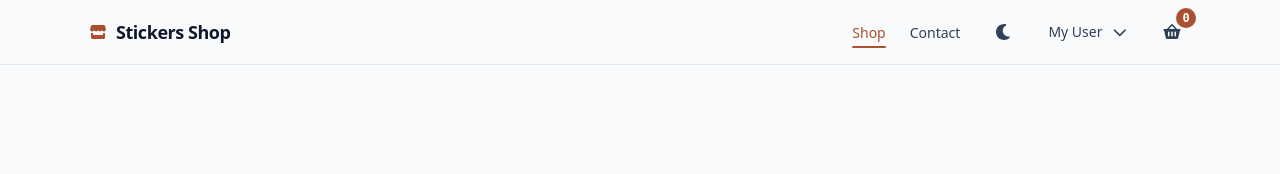
Test case: Header Component › signed-in state › logging out brings the Log in link back
Click the button "My User": [1088, 32] box [1048, 22, 1128, 42]
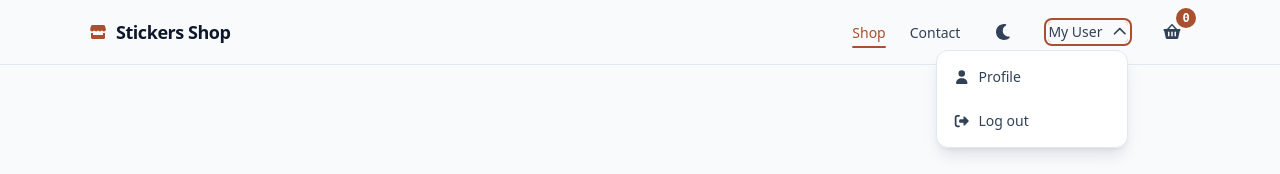
Click the button "Log out": [1032, 121] box [937, 99, 1127, 143]
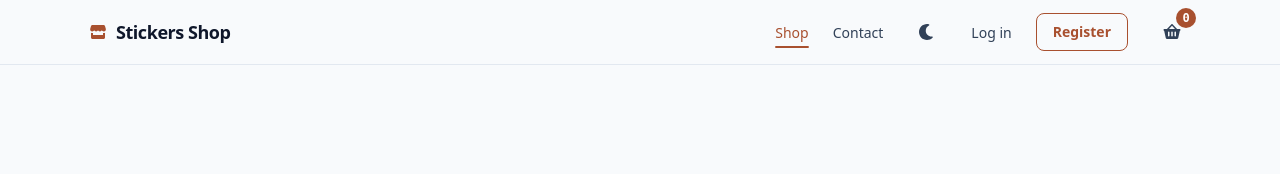
Expected: the link "Log in" is shown, [971, 23, 1012, 42]
Expected: the button "My User" is gone
